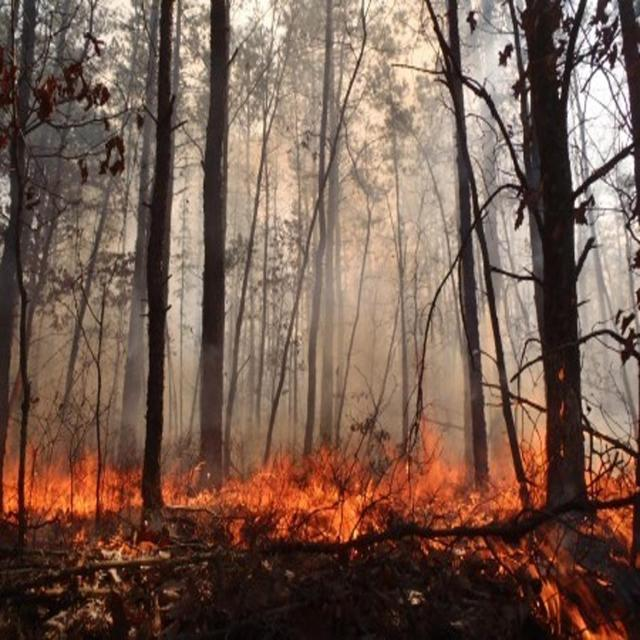fire: (393, 430, 456, 520), (220, 449, 273, 524), (314, 486, 370, 546), (544, 554, 570, 623), (18, 455, 46, 516), (64, 454, 87, 518), (576, 615, 614, 640)
